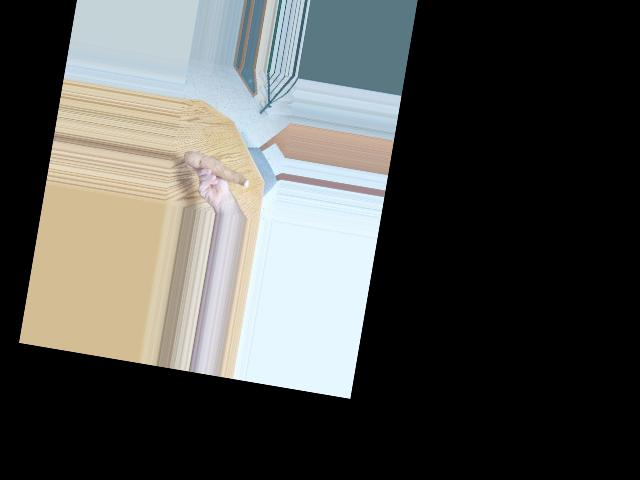sweet_potato: (181, 147, 254, 190)
